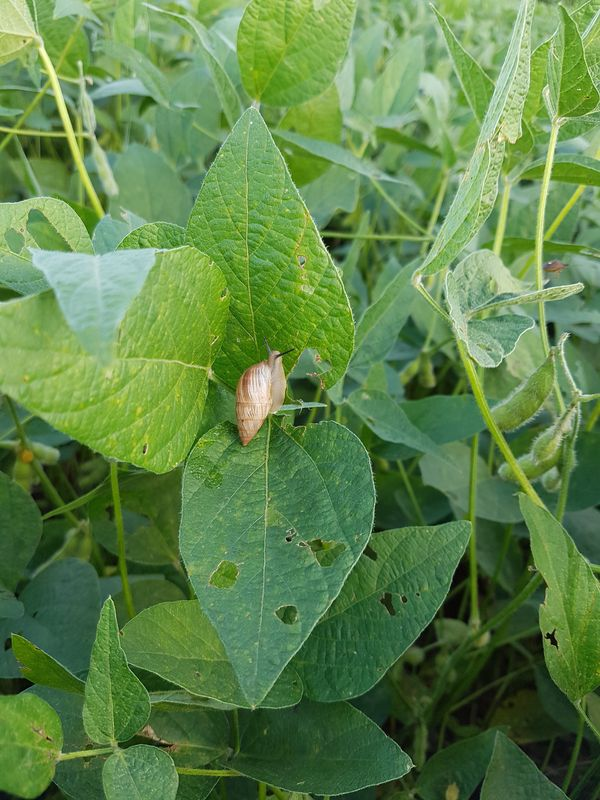Euschistus_heros_adulto: (541, 255, 572, 279)
Gastropoda: (215, 336, 307, 457)
